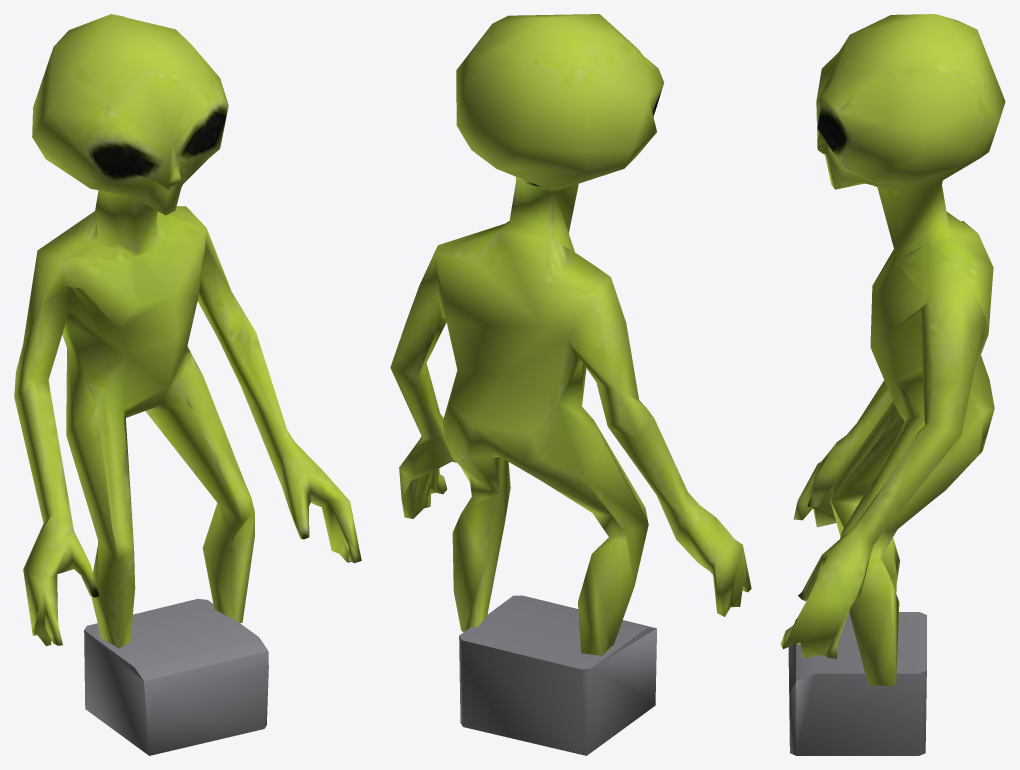
File: alien_baja.glb
3 views of the same model, side by side, from view 1: azimuth 30°, elevation 25°; view 2: azimuth 150°, elevation 25°; view 3: azimuth 270°, elevation 25° (orthographic). The views are drawn at different scales.
Parts seen in each view (by area): view 1: alien; view 2: alien; view 3: alien.
Boxes of the visible parts, bbox=[...] form: alien: bbox=[14, 14, 361, 755]; alien: bbox=[390, 14, 751, 755]; alien: bbox=[780, 14, 1005, 755].
Size of the model in its own units: 0.9402 by 1.99 by 0.5822.
Materials: 2 (1 with a texture image).
